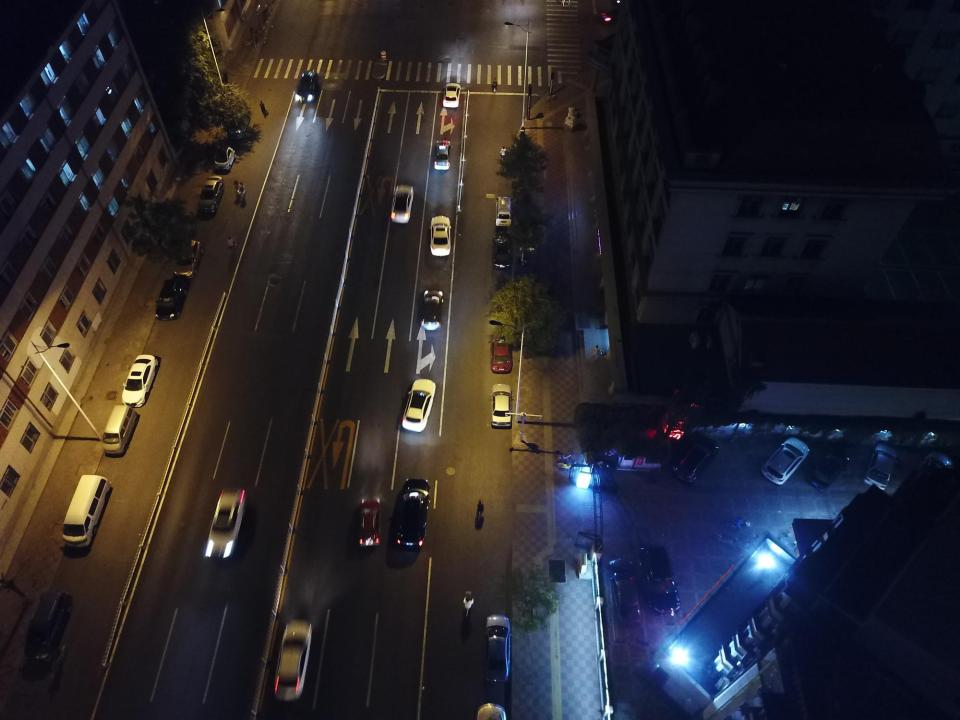car: (24, 591, 72, 659), (274, 619, 313, 700), (640, 543, 682, 614), (206, 489, 248, 557), (608, 557, 644, 628), (761, 436, 810, 486), (671, 433, 720, 482), (396, 478, 431, 546), (806, 441, 852, 491), (483, 614, 513, 682), (121, 355, 158, 408), (914, 450, 954, 499), (401, 378, 437, 432), (863, 443, 900, 490), (155, 276, 189, 320), (174, 240, 203, 278), (488, 330, 514, 372), (196, 176, 224, 212), (359, 498, 380, 546), (420, 289, 444, 330), (390, 184, 414, 224), (491, 384, 512, 427), (430, 215, 451, 256), (294, 71, 318, 102), (493, 233, 513, 269), (226, 112, 250, 139), (434, 139, 452, 170), (214, 146, 236, 171), (600, 8, 634, 24), (442, 83, 461, 107)
van: (60, 475, 112, 547), (100, 404, 138, 454), (495, 196, 513, 226)
